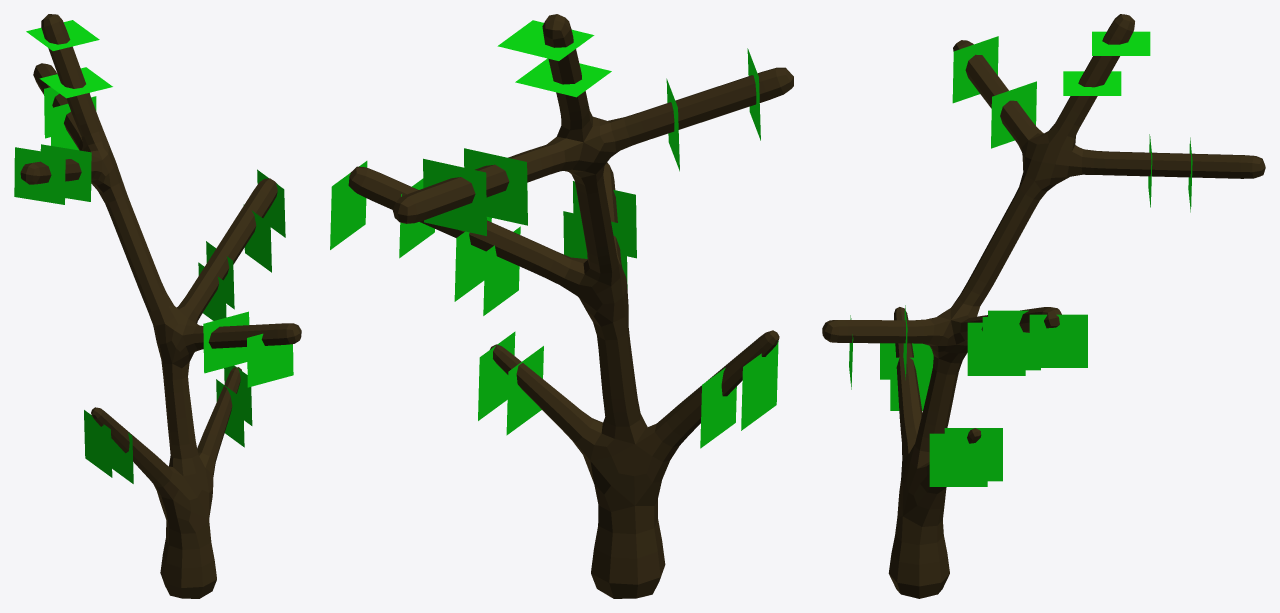
3 renders of one model, left to right at view 1: azimuth 30°, elevation 25°; view 2: azimuth 150°, elevation 25°; view 3: azimuth 270°, elevation 25°, orthographic. The views are drawn at different scales.
Parts seen in each view (by area): view 1: Cube.001, Plane.013, Plane.008, Plane.009, Plane.001, Plane.012, Plane.006, Plane.015, Plane.010, Plane.002, Plane.014, Plane.007 (+5 smaller); view 2: Cube.001, Plane.011, Plane.010, Plane.001, Plane, Plane.007, Plane.003, Plane.005, Plane.014, Plane.002, Plane.004, Plane.015 (+3 smaller); view 3: Cube.001, Plane.003, Plane.007, Plane.006, Plane.013, Plane.012, Plane.014, Plane.002, Plane.005, Plane, Plane.015, Plane.001 (+1 smaller).
Part boxes in pixels (<box>): Cube.001: <box>20,14,301,598</box>; Plane.013: <box>14,147,65,204</box>; Plane.008: <box>247,333,293,387</box>; Plane.009: <box>203,311,249,373</box>; Plane.001: <box>84,410,112,477</box>; Plane.012: <box>40,144,91,201</box>; Plane.006: <box>243,204,271,272</box>; Plane.015: <box>39,67,112,98</box>; Plane.010: <box>50,96,96,150</box>; Plane.002: <box>216,379,244,447</box>; Plane.014: <box>26,20,99,50</box>; Plane.007: <box>257,169,285,237</box>; Cube.001: <box>348,14,793,598</box>; Plane.011: <box>423,158,486,235</box>; Plane.010: <box>464,148,527,225</box>; Plane.001: <box>741,341,778,430</box>; Plane: <box>700,367,736,448</box>; Plane.007: <box>330,161,367,249</box>; Plane.003: <box>478,331,515,420</box>; Plane.005: <box>483,226,520,315</box>; Plane.014: <box>497,20,594,60</box>; Plane.002: <box>506,346,543,435</box>; Plane.004: <box>454,217,491,301</box>; Plane.015: <box>515,58,611,97</box>; Cube.001: <box>822,14,1265,598</box>; Plane.003: <box>944,428,1002,481</box>; Plane.007: <box>1029,314,1087,367</box>; Plane.006: <box>988,310,1029,363</box>; Plane.013: <box>952,36,998,103</box>; Plane.012: <box>991,81,1036,148</box>; Plane.014: <box>1092,31,1150,55</box>; Plane.002: <box>929,433,987,486</box>; Plane.005: <box>967,322,1025,375</box>; Plane: <box>890,357,933,410</box>; Plane.015: <box>1063,71,1121,95</box>; Plane.001: <box>880,343,933,379</box>.
Size of the model in its own units: 1263 by 2123 by 1528.
